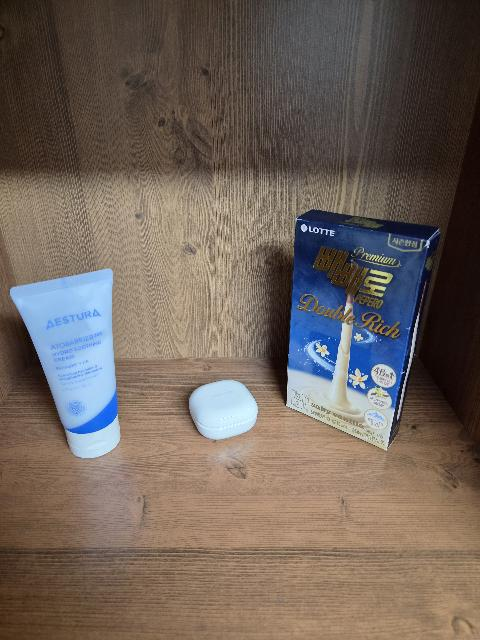earphone_case: (189, 380, 258, 440)
handcream: (10, 268, 121, 459)
pepero: (286, 209, 442, 451)
